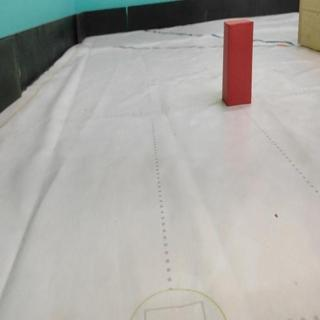redbox: (222, 18, 254, 108)
